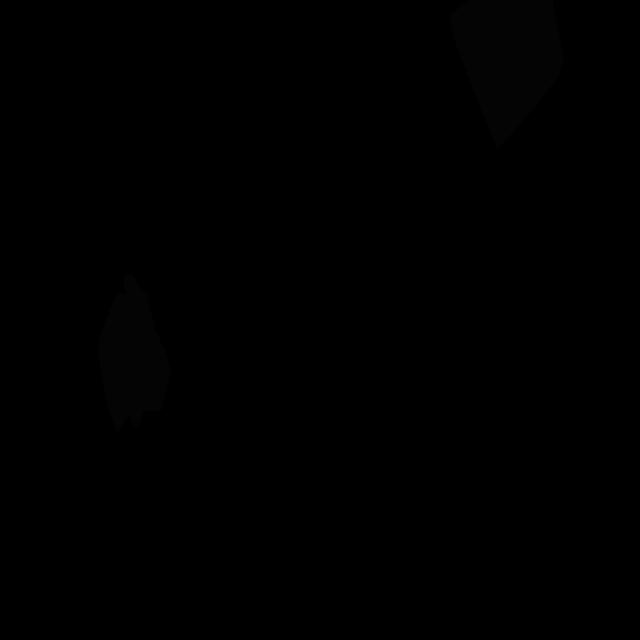soft_plastic: (449, 0, 564, 149), (98, 274, 171, 435)
